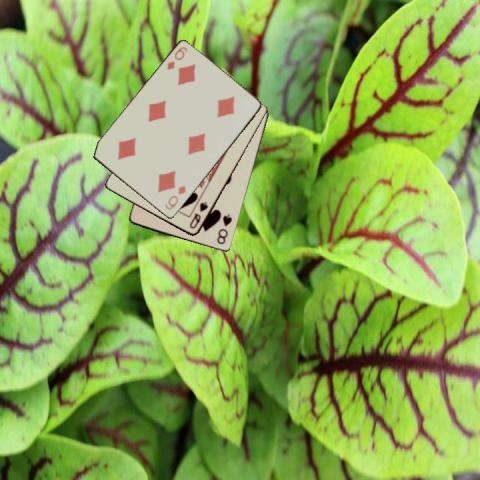6d: (162, 183, 187, 211), (164, 44, 189, 72)
8s: (214, 211, 233, 246)
Qs: (187, 199, 209, 231)
